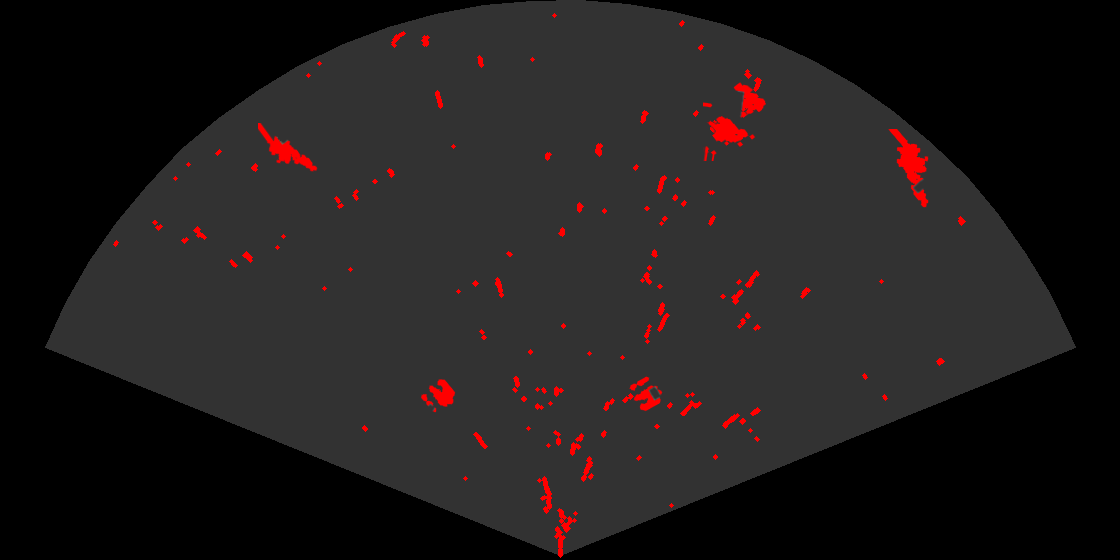ball: (419, 378, 457, 414), (628, 375, 664, 413)
cage: (703, 81, 767, 161)
frogman: (887, 129, 930, 209), (258, 123, 319, 173)
